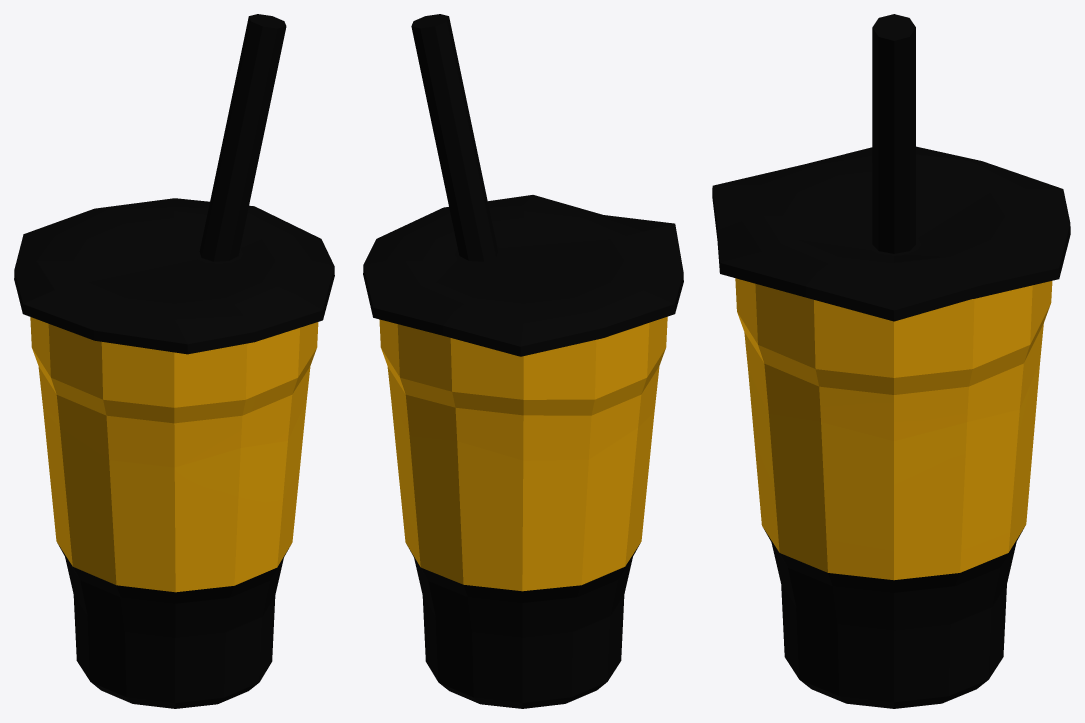
File: cyber_SM_Prop_Drink_Boba_01.gltf
3 views of the same model, side by side, from view 1: azimuth 30°, elevation 25°; view 2: azimuth 150°, elevation 25°; view 3: azimuth 270°, elevation 25° (orthographic). The views are drawn at different scales.
Parts seen in each view (by area): view 1: SM_Prop_Drink_Boba_01; view 2: SM_Prop_Drink_Boba_01; view 3: SM_Prop_Drink_Boba_01.
Part boxes in pixels (bbox=[...]): SM_Prop_Drink_Boba_01: bbox=[14, 14, 334, 708]; SM_Prop_Drink_Boba_01: bbox=[363, 14, 683, 708]; SM_Prop_Drink_Boba_01: bbox=[712, 14, 1070, 708].
Bounding box in the file's own units: 0.2145 × 0.4337 × 0.2023.
Materials: 1 (1 with a texture image).
